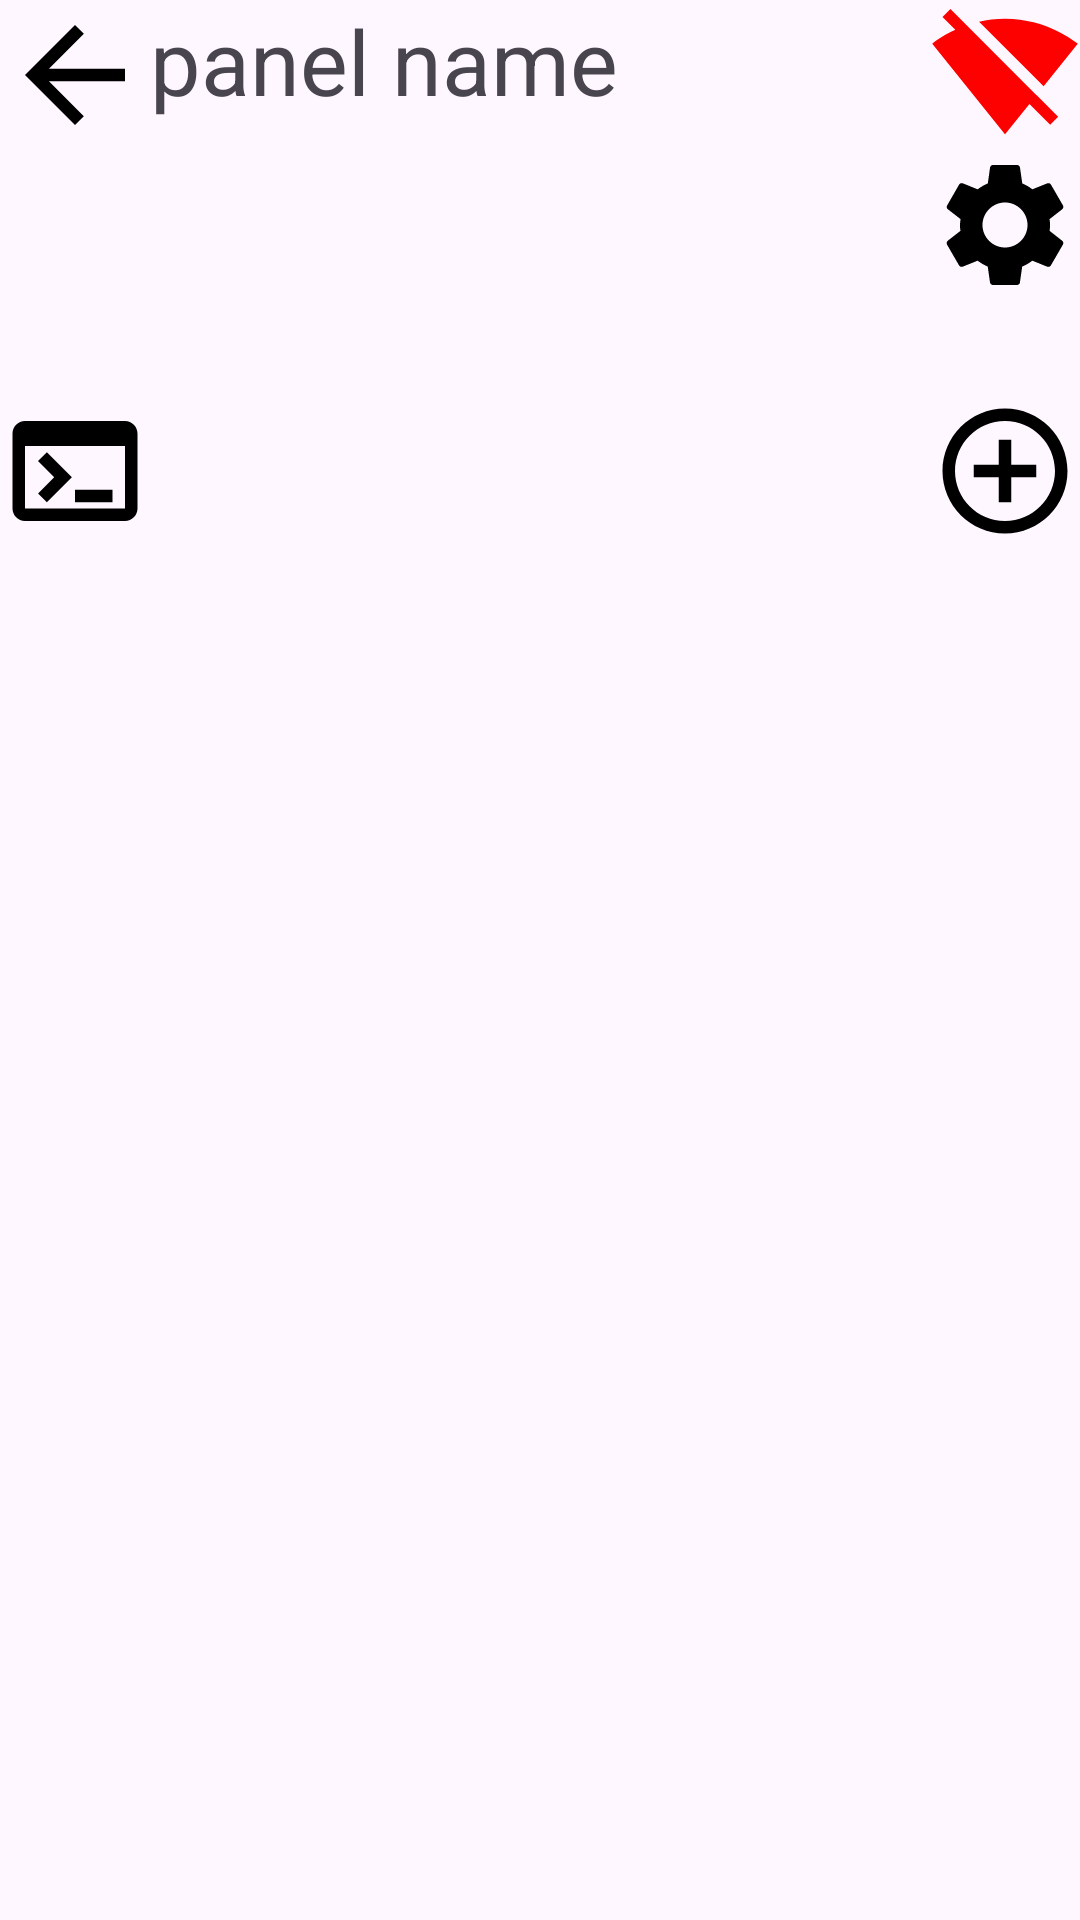

Locate icon controls on the screen. Image size 1080w x 1920h, boxes as (x1, y1, x2, y2).
add circle: (942, 408, 1068, 534)
arrow back: (25, 25, 125, 125)
settings: (946, 165, 1064, 285)
signal wifi off: (932, 9, 1078, 134)
terminal: (12, 421, 138, 521)
